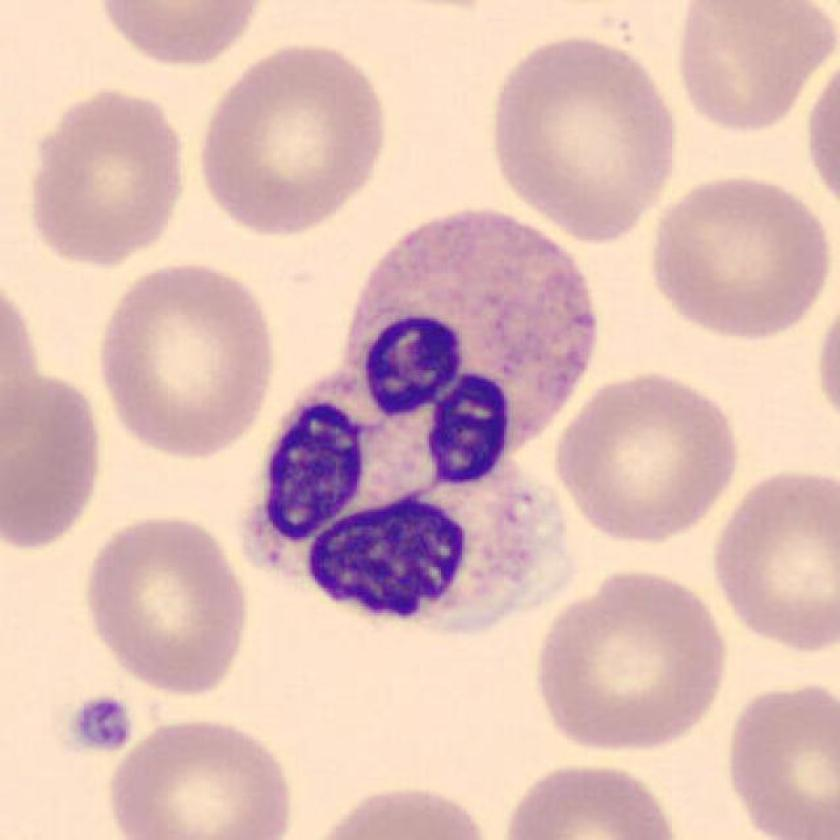neutrophil: (244, 213, 596, 637)
